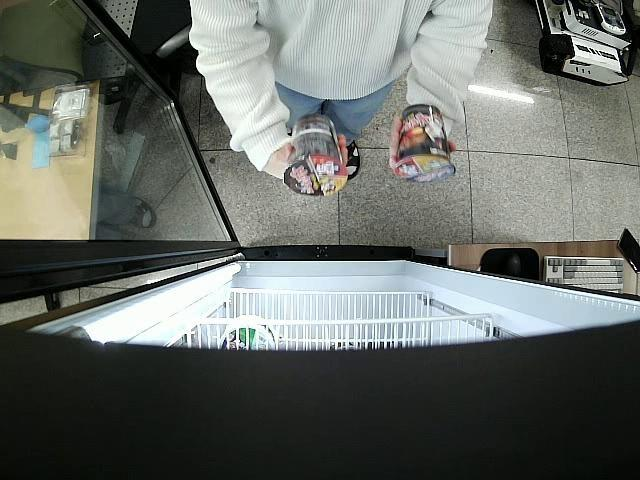08_buldak_S: (390, 102, 456, 186), (283, 113, 347, 196)
